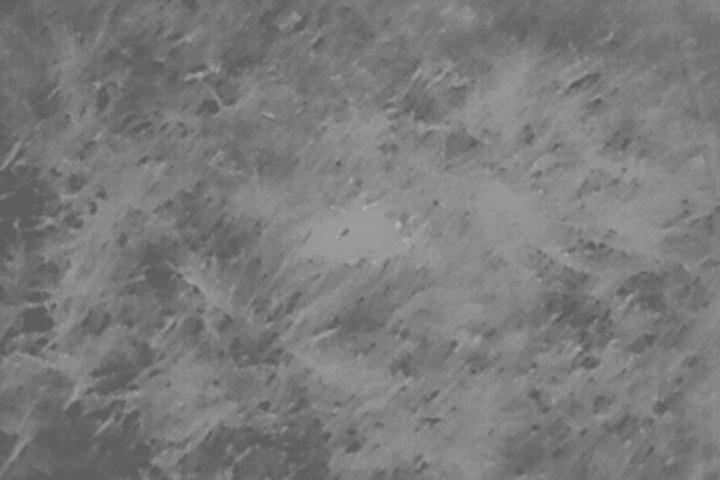landmine: (305, 202, 404, 270)
